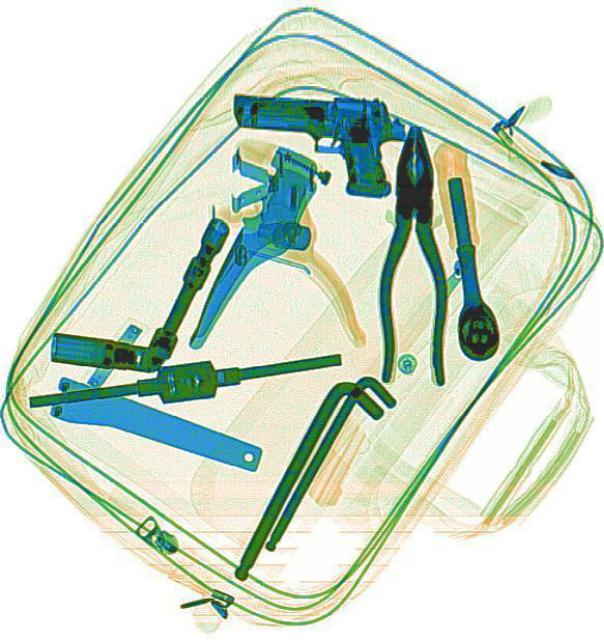Gun: (223, 84, 407, 198)
Pliers: (377, 122, 447, 384)
